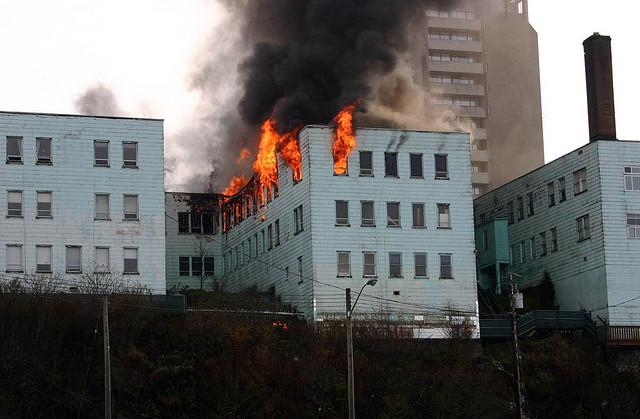Fire: (210, 124, 357, 193)
